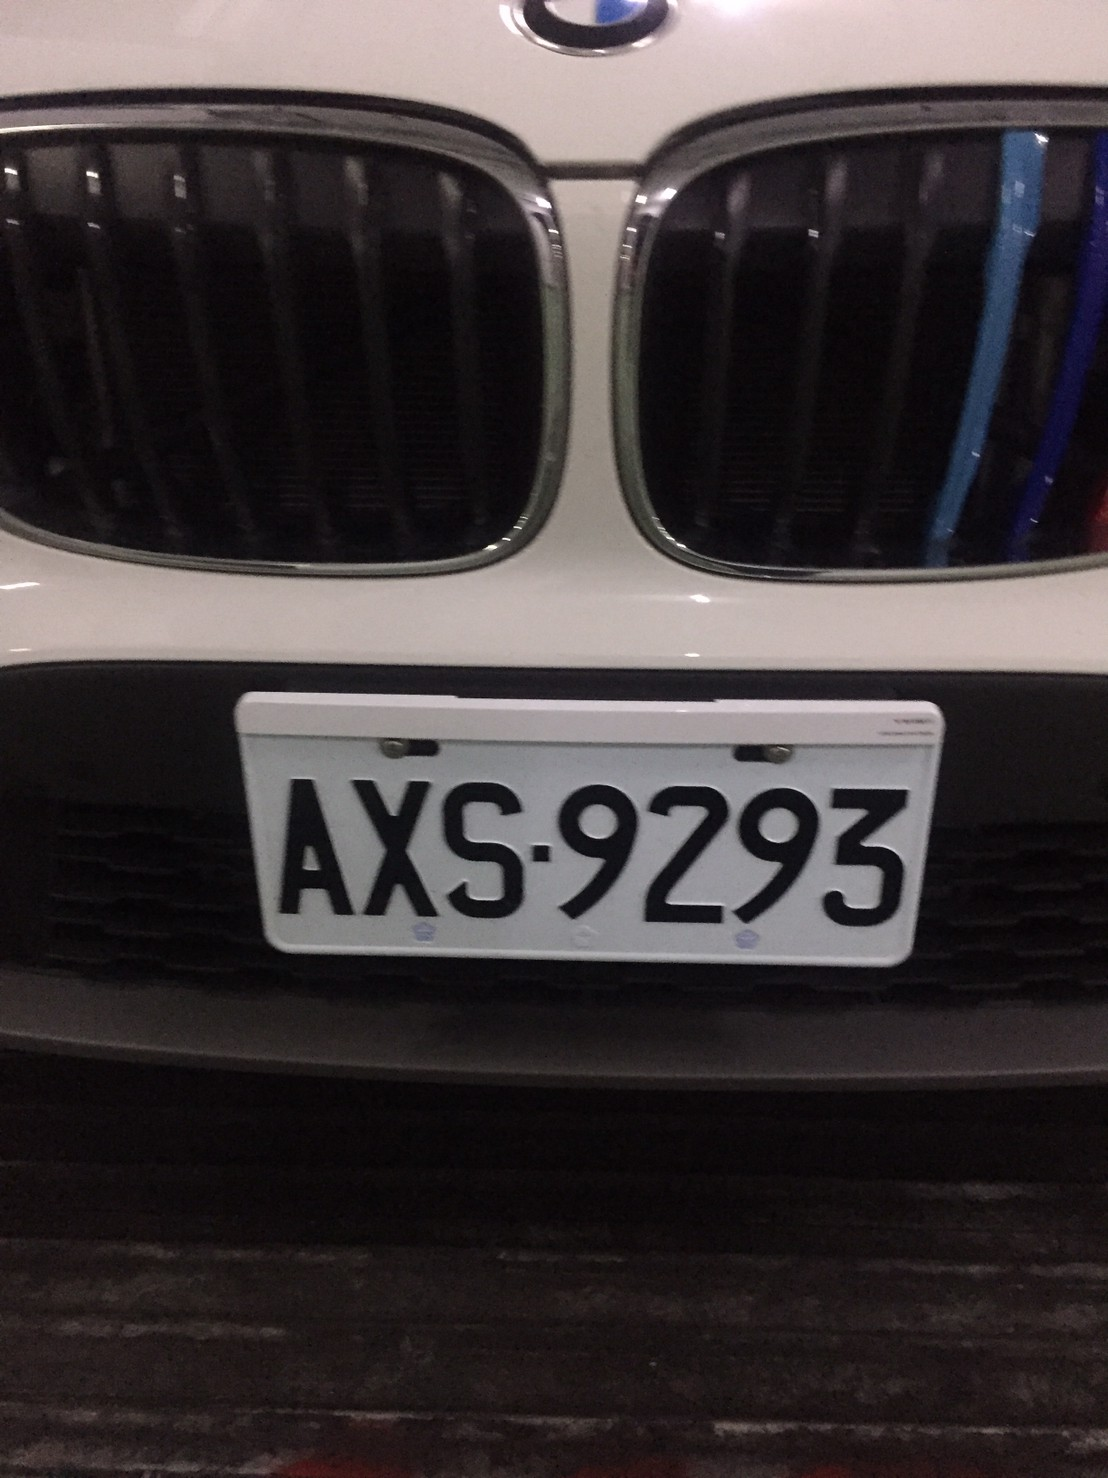LP: (216, 676, 946, 973)
